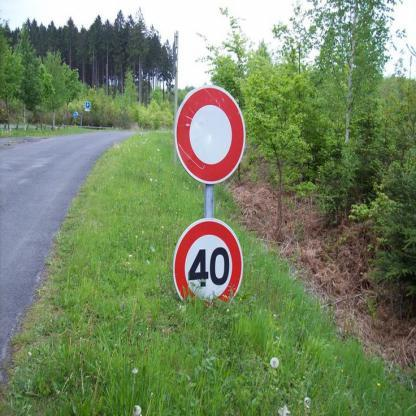Speed Limit 40: (174, 218, 242, 300)
